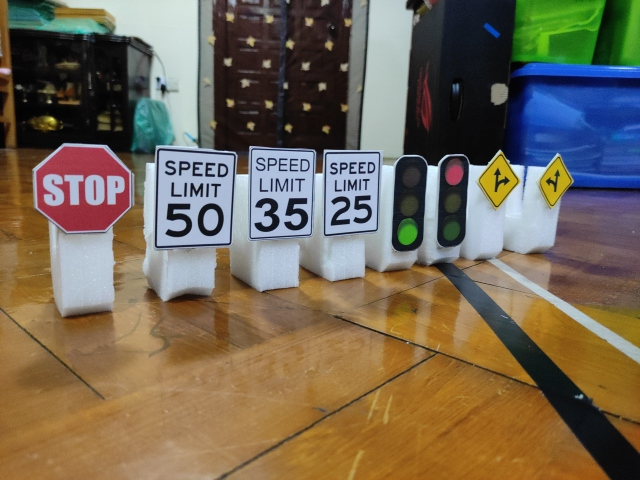Green Traffic Light: (391, 155, 427, 252)
Red Traffic Light: (438, 154, 470, 248)
Speed Limit 25: (323, 150, 383, 237)
Speed Limit 35: (248, 146, 318, 237)
Speed Limit 50: (154, 146, 238, 248)
Stop Sign: (32, 140, 135, 235)
Straight Or Left Sign: (539, 156, 572, 206)
Straight Or Right Sign: (478, 151, 520, 208)
